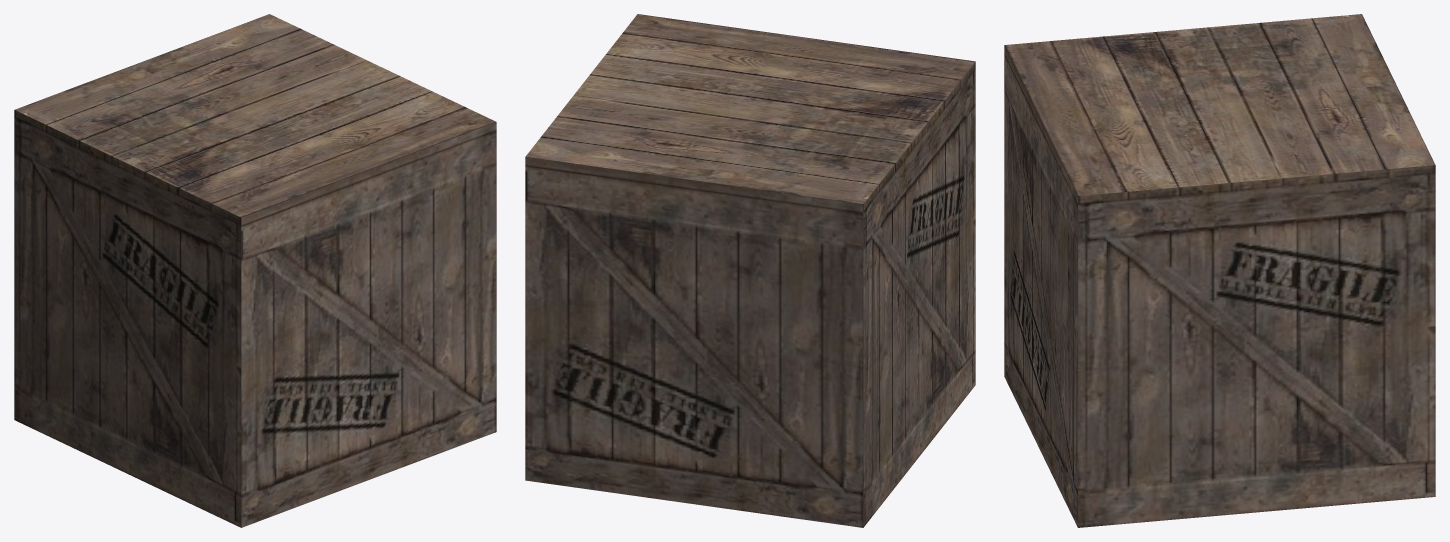
File: Wooden_box_v1_LD1square (10).001.glb
3 views of the same model, side by side, from view 1: azimuth 30°, elevation 25°; view 2: azimuth 150°, elevation 25°; view 3: azimuth 270°, elevation 25° (orthographic). The views are drawn at different scales.
Visible parts, largest first — view 1: Wooden_box_v1_LD1square (10).001; view 2: Wooden_box_v1_LD1square (10).001; view 3: Wooden_box_v1_LD1square (10).001.
Boxes of the visible parts, box(x1,y1,x2,y2) form: Wooden_box_v1_LD1square (10).001: box(14, 14, 496, 527); Wooden_box_v1_LD1square (10).001: box(525, 14, 975, 527); Wooden_box_v1_LD1square (10).001: box(1004, 14, 1435, 527).
Size of the model in its own units: 0.9568 by 0.8124 by 0.9568.
1 material, 1 textured.
